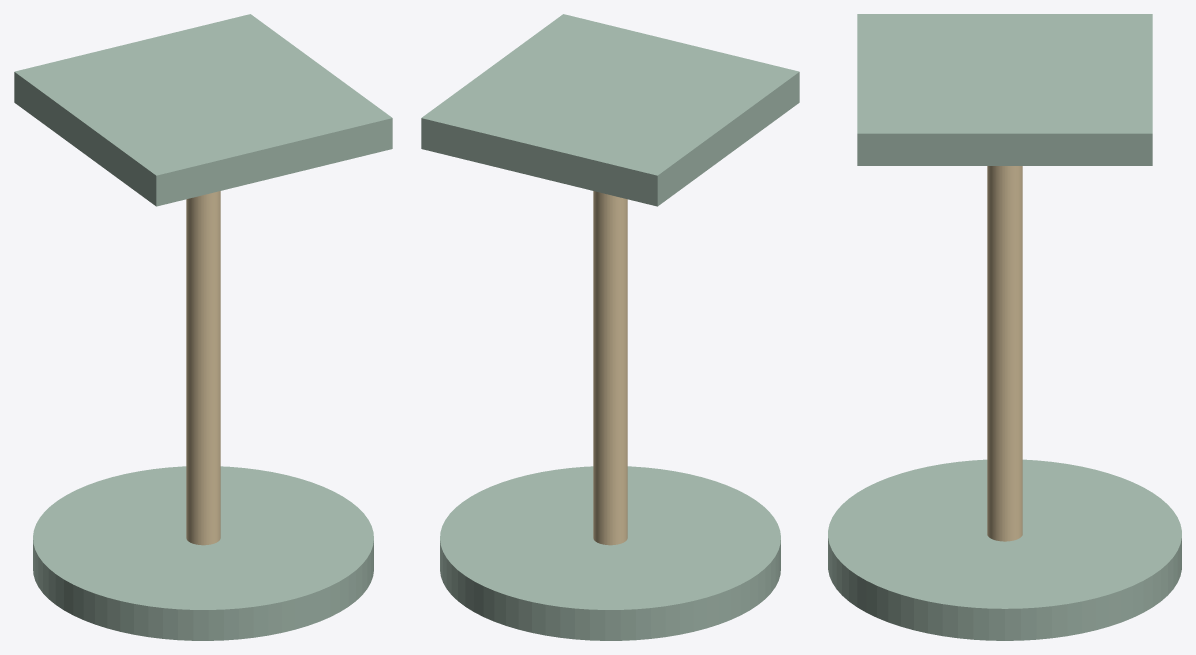
3 views of the same model, side by side, from view 1: azimuth 30°, elevation 25°; view 2: azimuth 150°, elevation 25°; view 3: azimuth 270°, elevation 25° (orthographic). The views are drawn at different scales.
Parts seen in each view (by area): view 1: Stand base, Stand platform, Stand post; view 2: Stand base, Stand platform, Stand post; view 3: Stand base, Stand platform, Stand post.
Part boxes in pixels (x1,y1,x2,y2): Stand base: [33, 466, 373, 640]; Stand platform: [14, 14, 392, 206]; Stand post: [186, 191, 220, 545]; Stand base: [440, 466, 780, 640]; Stand platform: [421, 14, 799, 206]; Stand post: [593, 191, 627, 545]; Stand base: [828, 459, 1181, 640]; Stand platform: [857, 14, 1152, 165]; Stand post: [987, 166, 1022, 541].
Size of the model in its own units: 0.12 by 0.184 by 0.1199.
